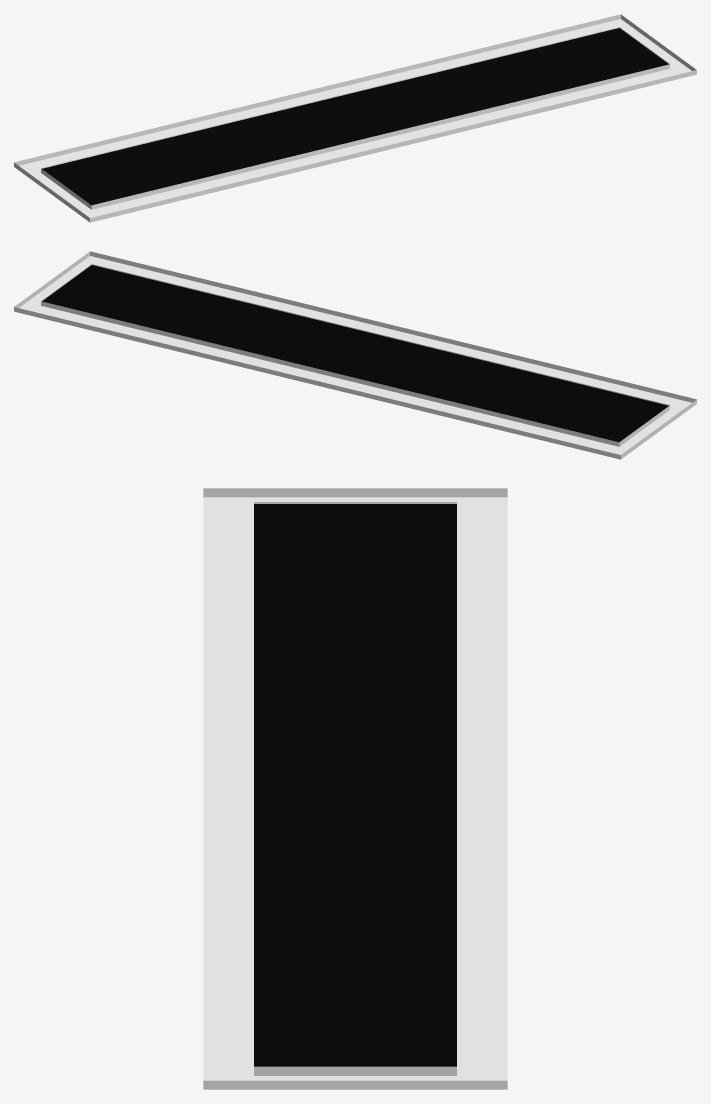
Rendered from aws_AirConditionerC_01_visual.DAE.
3 renders of one model, top to bottom at view 1: azimuth 30°, elevation 25°; view 2: azimuth 150°, elevation 25°; view 3: azimuth 270°, elevation 25°, orthographic. The views are drawn at different scales.
Parts seen in each view (by area): view 1: aws_AirConditionerC_01_visual; view 2: aws_AirConditionerC_01_visual; view 3: aws_AirConditionerC_01_visual.
Boxes of the visible parts, x1,y1,x2,y2 form: aws_AirConditionerC_01_visual: [14, 14, 696, 222]; aws_AirConditionerC_01_visual: [14, 251, 696, 459]; aws_AirConditionerC_01_visual: [203, 488, 507, 1089].
Size of the model in its own units: 159 by 34.64 by 1.15.
